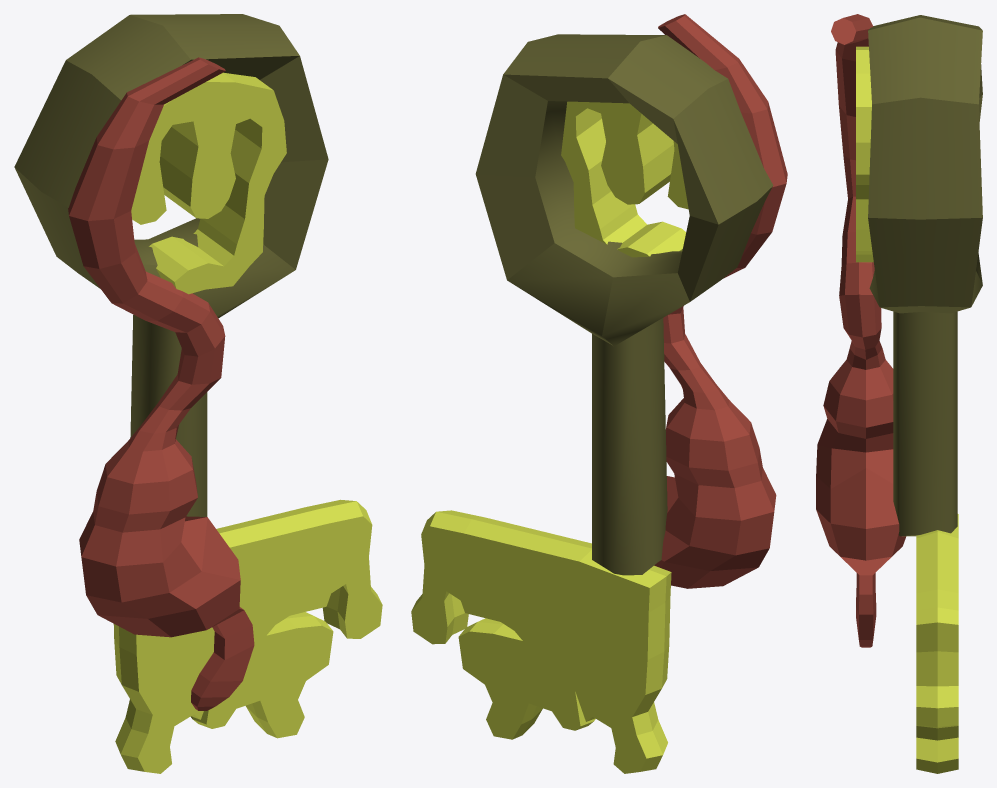
File: LlaveAcida.fbx
3 renders of one model, left to right at view 1: azimuth 30°, elevation 25°; view 2: azimuth 150°, elevation 25°; view 3: azimuth 270°, elevation 25°, orthographic. The views are drawn at different scales.
Visible parts, largest first — view 1: Plane.009, Cylinder.007, si.006; view 2: si.006, Plane.009, Cylinder.007; view 3: si.006, Cylinder.007, Plane.009.
Boxes of the visible parts, box(x1,y1,x2,y2) form: Plane.009: box(113, 72, 382, 773); Cylinder.007: box(68, 57, 254, 710); si.006: box(14, 14, 328, 516); si.006: box(475, 34, 773, 575); Plane.009: box(411, 101, 688, 773); Cylinder.007: box(654, 14, 787, 588); si.006: box(868, 15, 982, 536); Cylinder.007: box(816, 14, 906, 647); Plane.009: box(856, 46, 958, 773).
Size of the model in its own units: 48.57 by 100 by 21.66.
